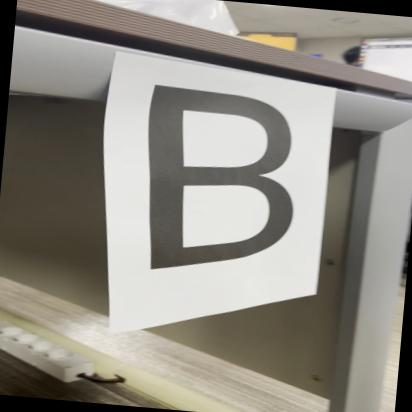seat: (121, 75, 336, 291)
